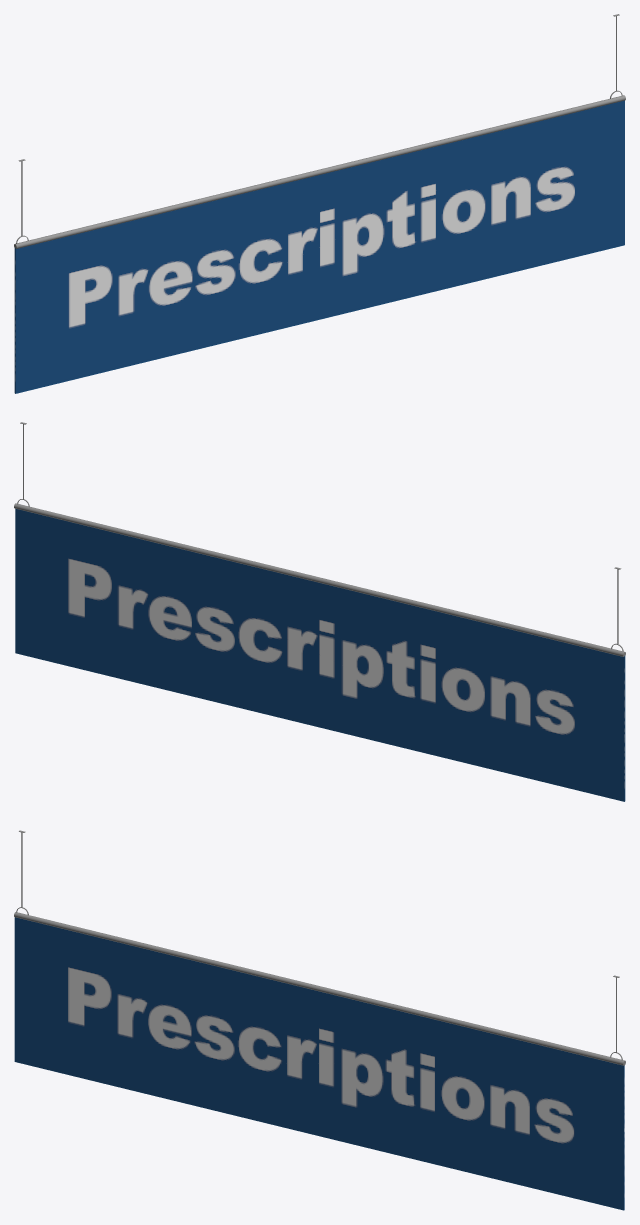
The model's file is Poster 3.FBX.
The picture shows the model from 3 angles, top to bottom: view 1: azimuth 30°, elevation 25°; view 2: azimuth 150°, elevation 25°; view 3: azimuth 330°, elevation 25°; orthographic projection.
Parts seen in each view (by area): view 1: poster 3; view 2: poster 3; view 3: poster 3.
Boxes of the visible parts, bbox=[...] form: poster 3: bbox=[14, 14, 625, 393]; poster 3: bbox=[14, 422, 625, 801]; poster 3: bbox=[14, 830, 625, 1210].
Size of the model in its own units: 89.54 by 32.52 by 0.6818.
2 materials, 1 textured.
